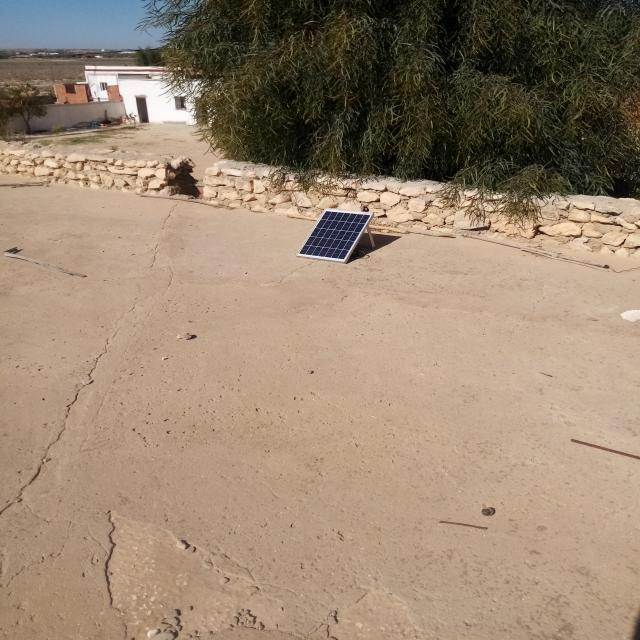no faulty: (296, 209, 373, 262)
